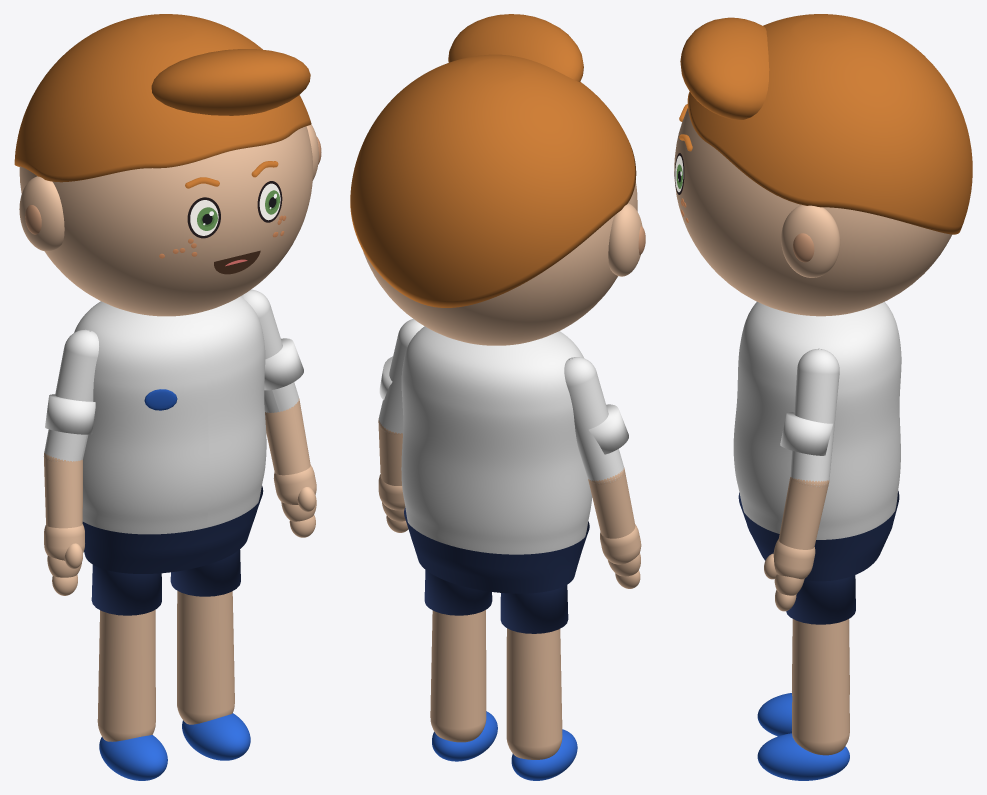
Rendered from klasgenoot_c.glb.
3 renders of one model, left to right at view 1: azimuth 30°, elevation 25°; view 2: azimuth 150°, elevation 25°; view 3: azimuth 270°, elevation 25°, orthographic. The views are drawn at different scales.
Parts seen in each view (by area): view 1: klasgenoot_c_romp, klasgenoot_c_hoofd, klasgenoot_c_haar, klasgenoot_c_haar_kuif, klasgenoot_c_been_L, klasgenoot_c_been_R, klasgenoot_c_short_heup, klasgenoot_c_bovenarm_R, klasgenoot_c_short_R, klasgenoot_c_onderarm_R, klasgenoot_c_onderarm_L, klasgenoot_c_schoen_R (+10 smaller); view 2: klasgenoot_c_haar, klasgenoot_c_romp, klasgenoot_c_hoofd, klasgenoot_c_been_R, klasgenoot_c_been_L, klasgenoot_c_short_heup, klasgenoot_c_haar_kuif, klasgenoot_c_bovenarm_R, klasgenoot_c_short_R, klasgenoot_c_onderarm_R, klasgenoot_c_short_L, klasgenoot_c_oor_R (+7 smaller); view 3: klasgenoot_c_haar, klasgenoot_c_romp, klasgenoot_c_hoofd, klasgenoot_c_haar_kuif, klasgenoot_c_been_L, klasgenoot_c_bovenarm_L, klasgenoot_c_short_heup, klasgenoot_c_oor_L, klasgenoot_c_schoen_L, klasgenoot_c_short_L, klasgenoot_c_onderarm_L, klasgenoot_c_mouwzoom_L (+2 smaller).
Boxes of the visible parts, x1,y1,x2,y2 form: klasgenoot_c_romp: [74, 296, 266, 534]; klasgenoot_c_hoofd: [19, 126, 312, 316]; klasgenoot_c_haar: [14, 14, 311, 182]; klasgenoot_c_haar_kuif: [151, 49, 310, 115]; klasgenoot_c_been_L: [177, 591, 234, 724]; klasgenoot_c_been_R: [97, 609, 155, 741]; klasgenoot_c_short_heup: [82, 486, 263, 573]; klasgenoot_c_bovenarm_R: [44, 329, 98, 461]; klasgenoot_c_short_R: [91, 565, 161, 615]; klasgenoot_c_onderarm_R: [44, 456, 82, 528]; klasgenoot_c_onderarm_L: [265, 401, 310, 475]; klasgenoot_c_schoen_R: [99, 735, 167, 780]; klasgenoot_c_haar: [350, 54, 636, 307]; klasgenoot_c_romp: [401, 326, 592, 554]; klasgenoot_c_hoofd: [363, 181, 637, 345]; klasgenoot_c_been_R: [506, 628, 562, 759]; klasgenoot_c_been_L: [430, 610, 486, 742]; klasgenoot_c_short_heup: [404, 507, 589, 593]; klasgenoot_c_haar_kuif: [448, 14, 583, 81]; klasgenoot_c_bovenarm_R: [564, 357, 623, 483]; klasgenoot_c_short_R: [500, 585, 568, 633]; klasgenoot_c_onderarm_R: [588, 469, 635, 538]; klasgenoot_c_short_L: [424, 570, 492, 615]; klasgenoot_c_oor_R: [608, 203, 642, 276]; klasgenoot_c_haar: [687, 14, 972, 234]; klasgenoot_c_romp: [733, 301, 901, 539]; klasgenoot_c_hoofd: [674, 108, 951, 316]; klasgenoot_c_haar_kuif: [680, 17, 769, 119]; klasgenoot_c_been_L: [792, 619, 849, 755]; klasgenoot_c_bovenarm_L: [790, 348, 839, 486]; klasgenoot_c_short_heup: [738, 491, 899, 581]; klasgenoot_c_oor_L: [781, 205, 840, 277]; klasgenoot_c_schoen_L: [757, 733, 849, 780]; klasgenoot_c_short_L: [786, 575, 855, 624]; klasgenoot_c_onderarm_L: [778, 477, 828, 549]; klasgenoot_c_mouwzoom_L: [780, 412, 832, 455].
Bounding box in the file's own units: 0.6611 × 1.59 × 0.5861.
